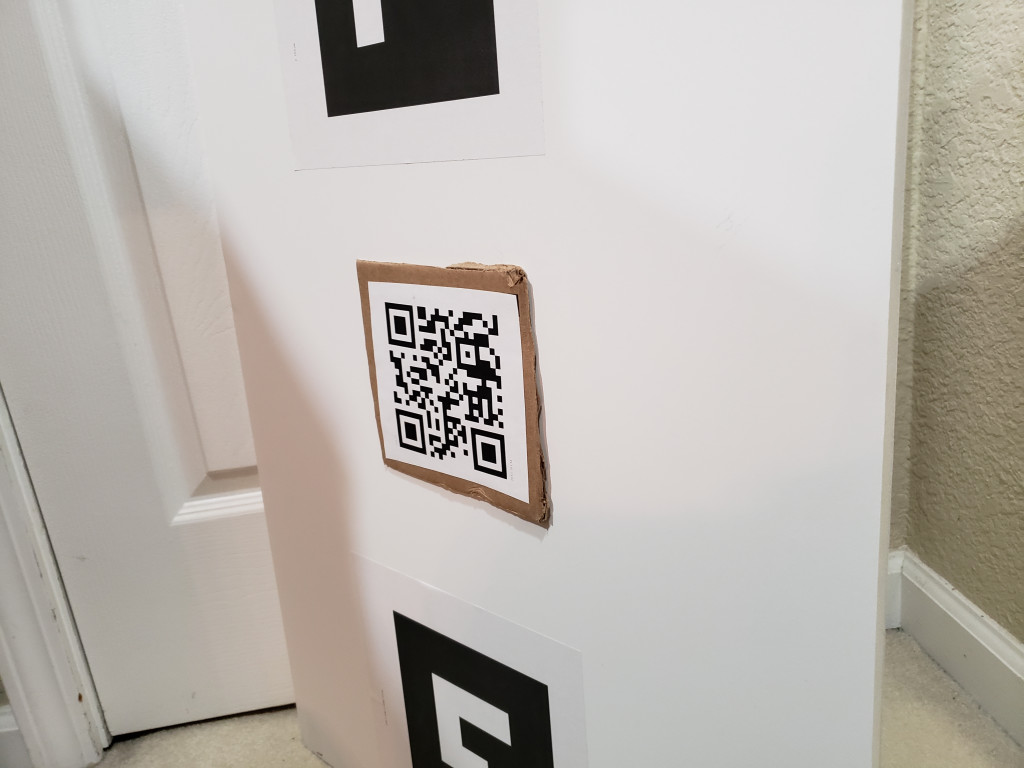QR_CODE: (375, 286, 523, 487)
